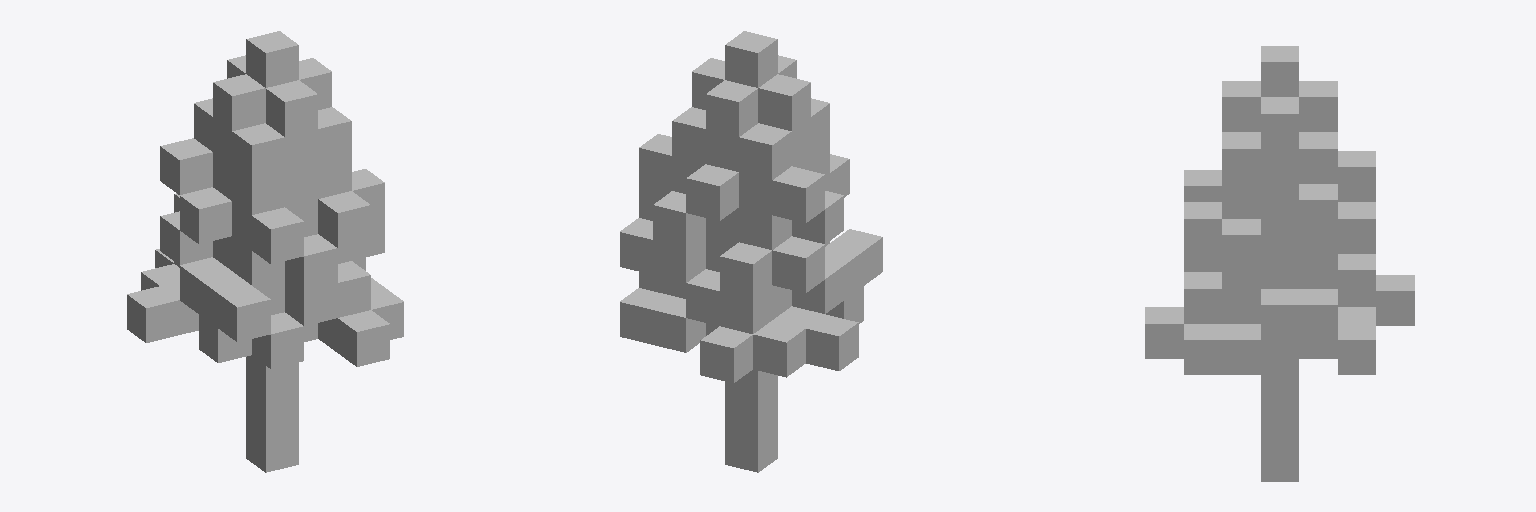
File: tree.obj
3 views of the same model, side by side, from view 1: azimuth 30°, elevation 25°; view 2: azimuth 150°, elevation 25°; view 3: azimuth 270°, elevation 25° (orthographic).
Bounding box in the file's own units: 6 × 12 × 7.